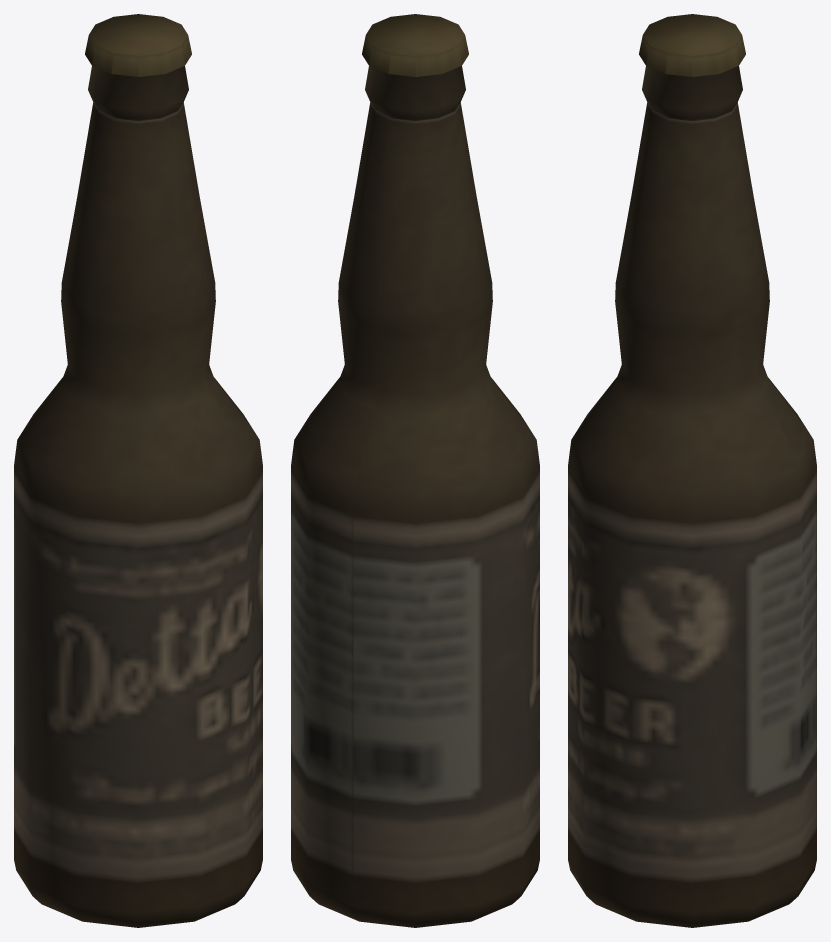
The model's file is glass_bottle_mx_1.obj.
3 views of the same model, side by side, from view 1: azimuth 30°, elevation 25°; view 2: azimuth 150°, elevation 25°; view 3: azimuth 270°, elevation 25° (orthographic).
Parts seen in each view (by area): view 1: glass_bottle_mx_1; view 2: glass_bottle_mx_1; view 3: glass_bottle_mx_1.
Part boxes in pixels (x1,y1,x2,y2): glass_bottle_mx_1: (14, 14, 262, 927); glass_bottle_mx_1: (291, 14, 539, 927); glass_bottle_mx_1: (568, 14, 816, 927).
Size of the model in its own units: 0.097 by 0.3639 by 0.097.
